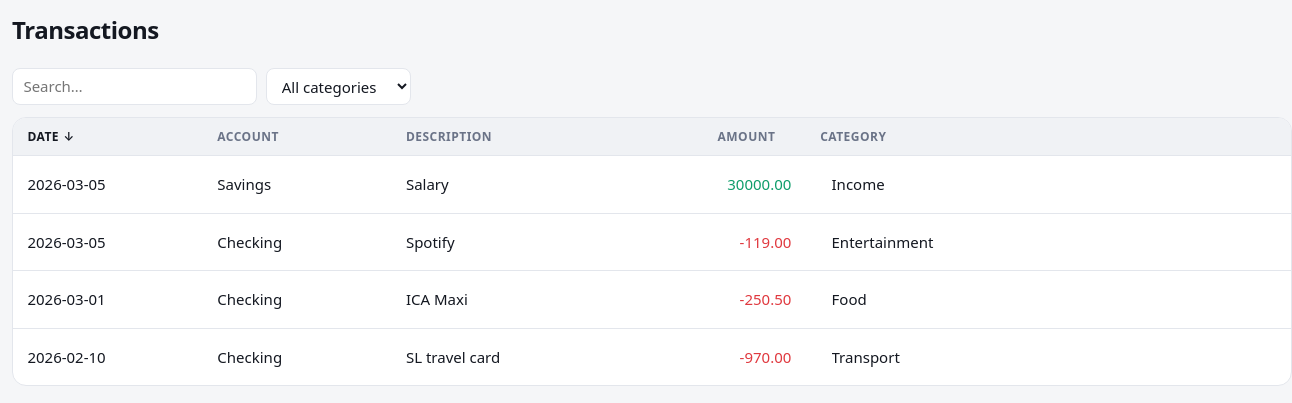
TransactionTable: sorting › reverses date order on the second click
The image size is (1292, 403).
Step 1. Click the button "Date ↓" → (51,137), box [27, 128, 75, 146]
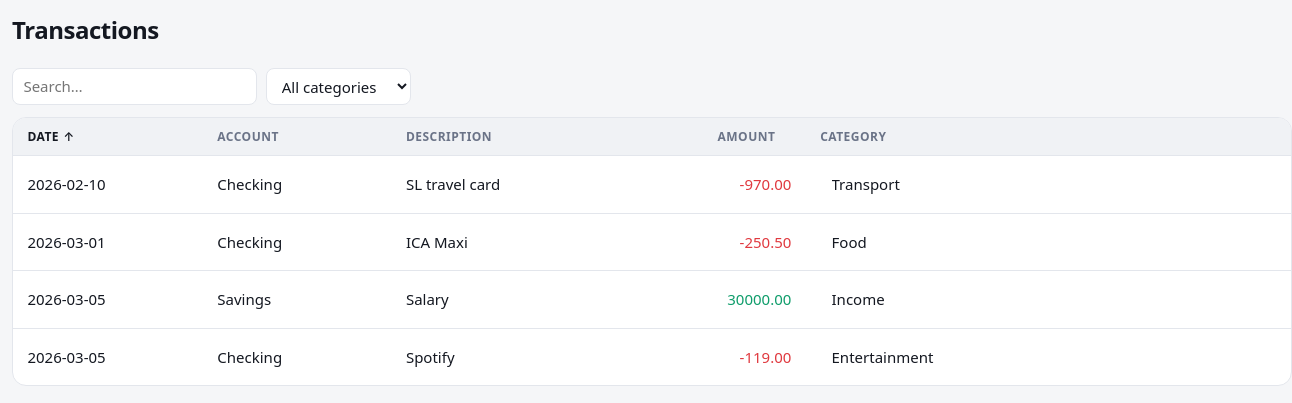
Expected: the button "Date ↑" is shown, [27, 128, 75, 146]
